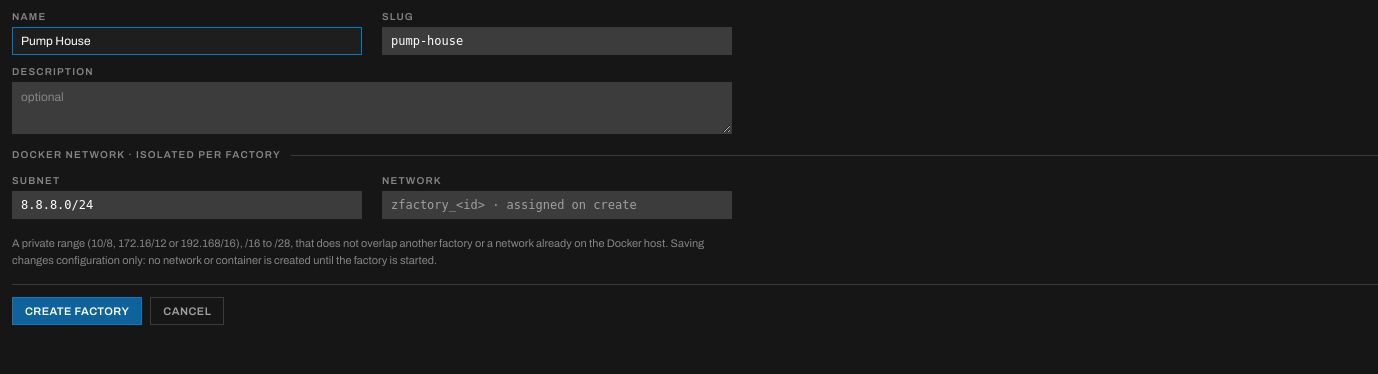
factory form › shows a form-level message when the failure has no field
Click the button "Create factory": [77, 311] box [12,297,142,325]
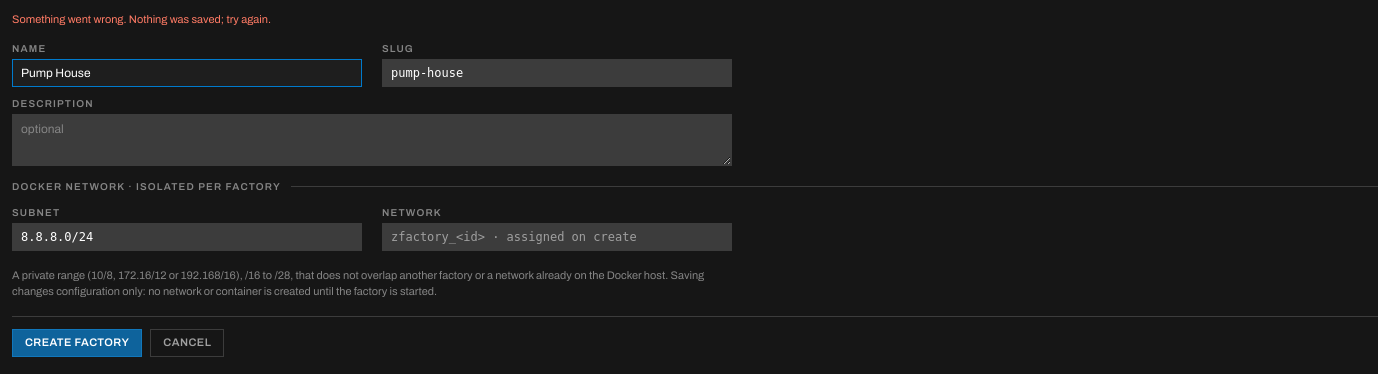
Now the message shows "Nothing was saved", box [12,13,271,25]
